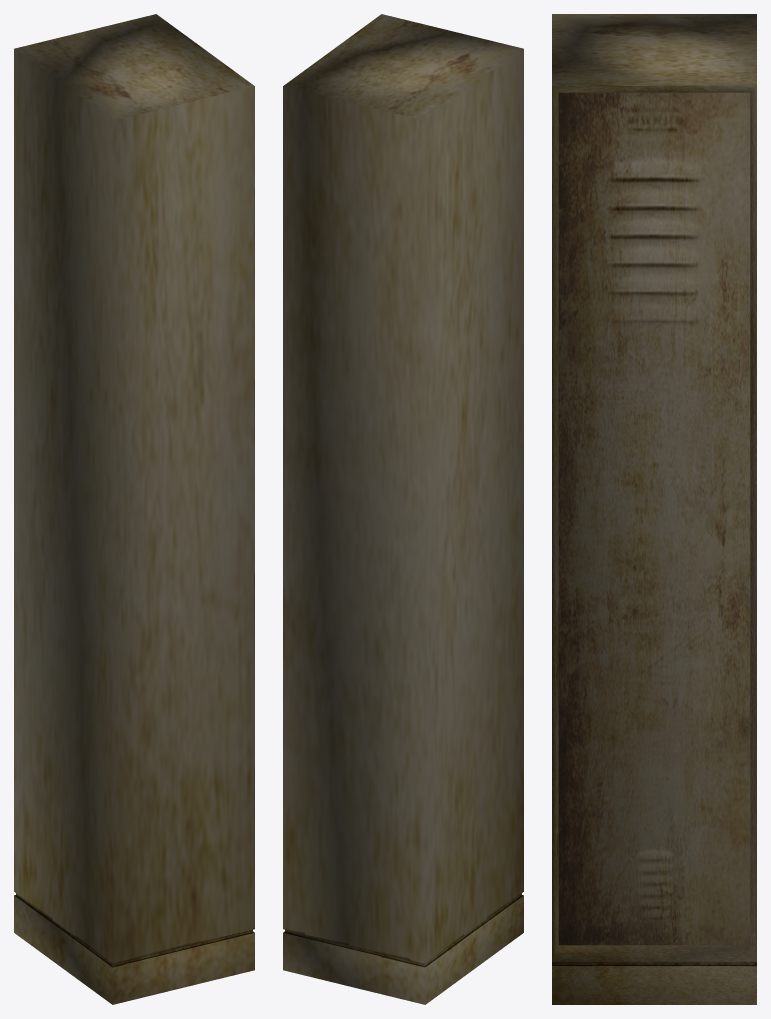
The model's file is Locker.fbx.
3 renders of one model, left to right at view 1: azimuth 30°, elevation 25°; view 2: azimuth 150°, elevation 25°; view 3: azimuth 270°, elevation 25°, orthographic. The views are drawn at different scales.
Visible parts, largest first — view 1: Locker; view 2: Locker; view 3: Locker_001, Locker.
Boxes of the visible parts, bbox=[...] form: Locker: bbox=[14, 14, 254, 1004]; Locker: bbox=[283, 14, 523, 1004]; Locker_001: bbox=[558, 92, 750, 945]; Locker: bbox=[552, 14, 756, 1004].
Size of the model in its own units: 0.5002 by 2.97 by 0.6.
